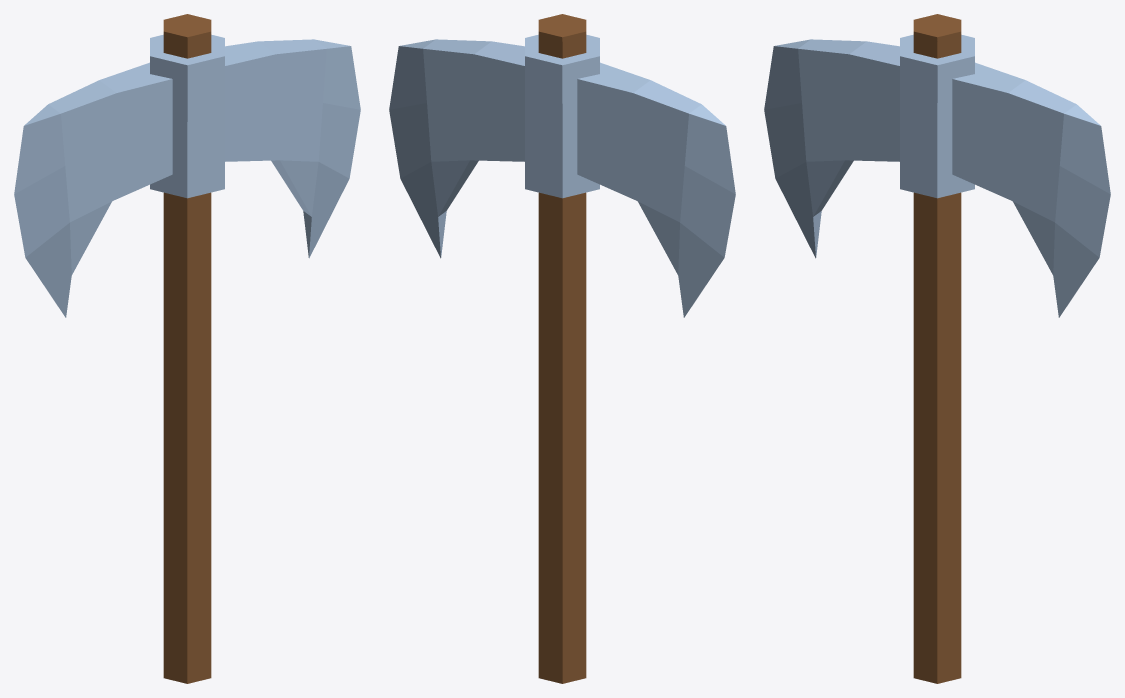
Rendered from axe.fbx.
3 renders of one model, left to right at view 1: azimuth 30°, elevation 25°; view 2: azimuth 150°, elevation 25°; view 3: azimuth 330°, elevation 25°, orthographic.
Parts seen in each view (by area): view 1: Line1318.001; view 2: Line1318.001; view 3: Line1318.001.
Part boxes in pixels (<box>): Line1318.001: <box>14,14,360,683</box>; Line1318.001: <box>389,14,735,683</box>; Line1318.001: <box>764,14,1110,683</box>.
Bounding box in the file's own units: 58.08 × 104 × 10.85.
